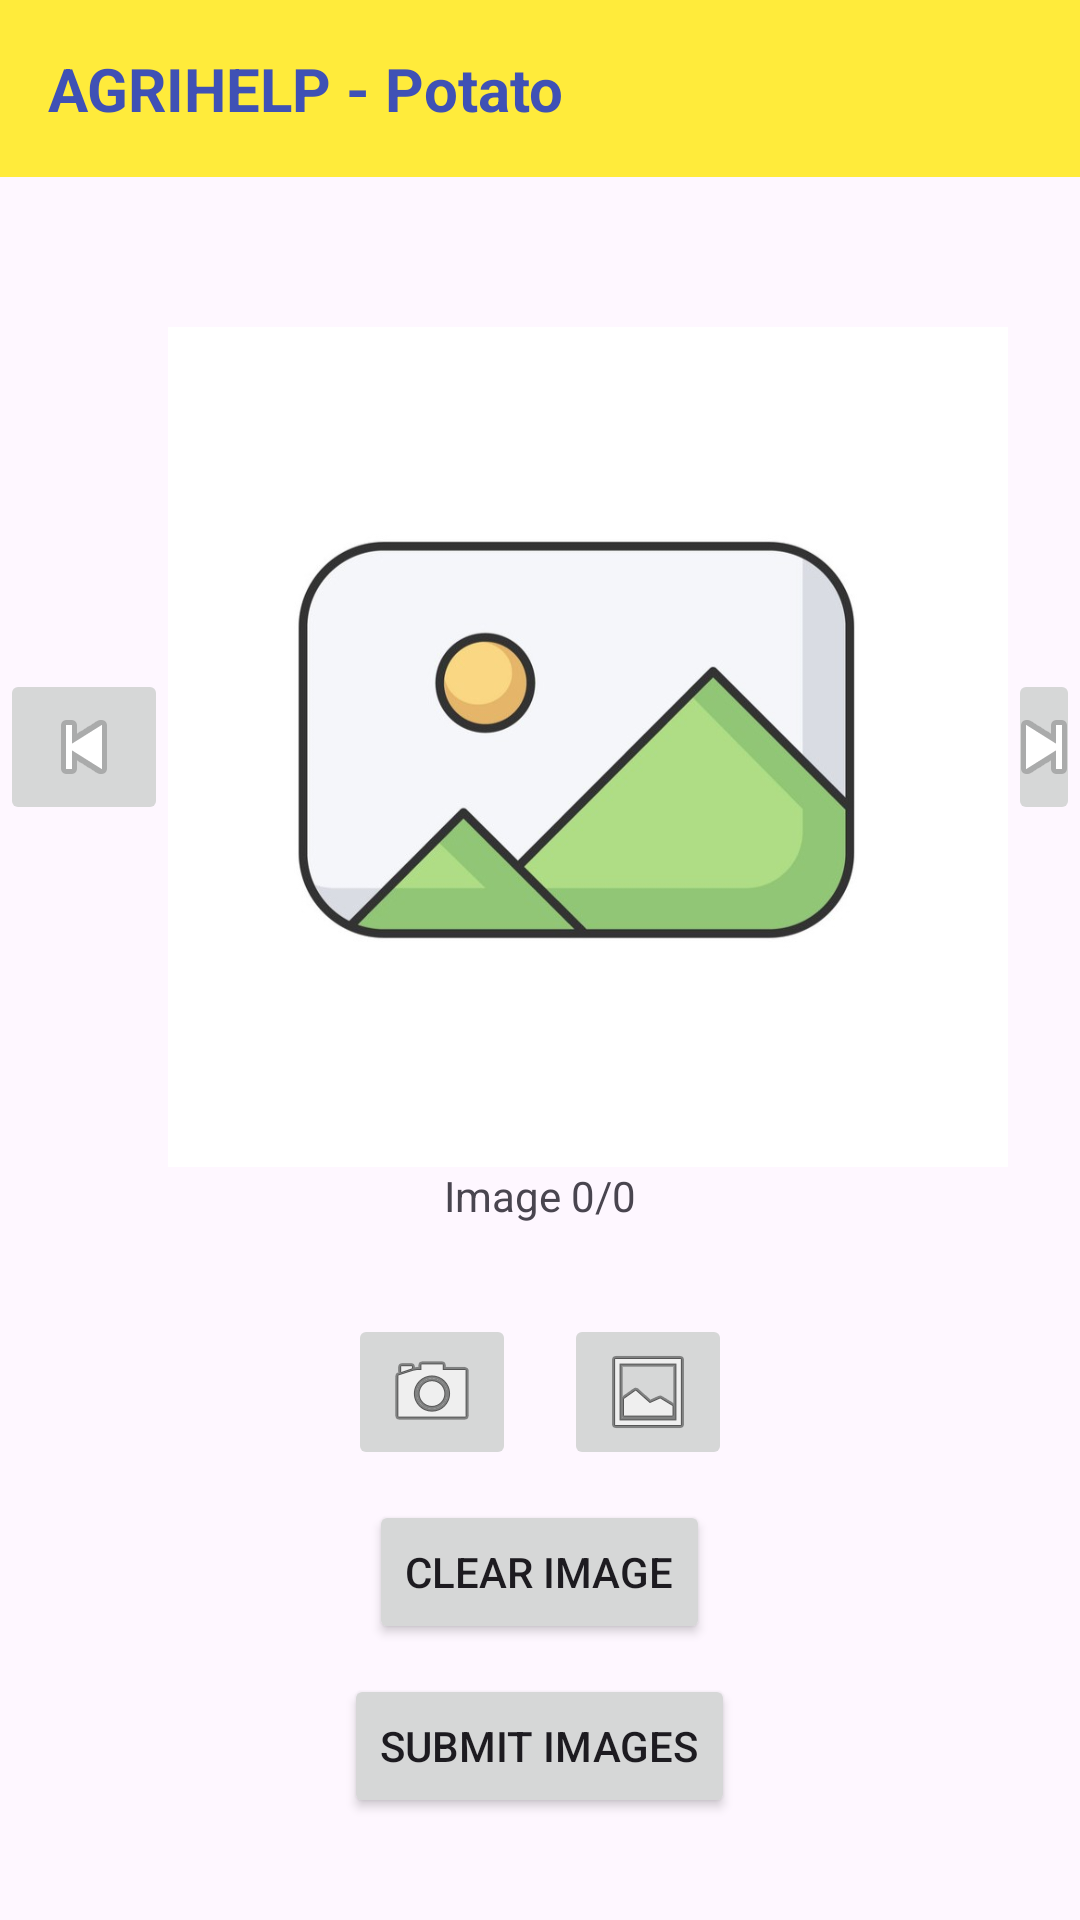

Locate icon controls on the screen. Image size 1080x1920, boxes as bbox=[x1, y1, x2, y2].
camera: bbox=[360, 1332, 504, 1452]
gallery: bbox=[576, 1332, 720, 1452]
next: bbox=[1020, 687, 1068, 807]
previous: bbox=[12, 687, 156, 807]
